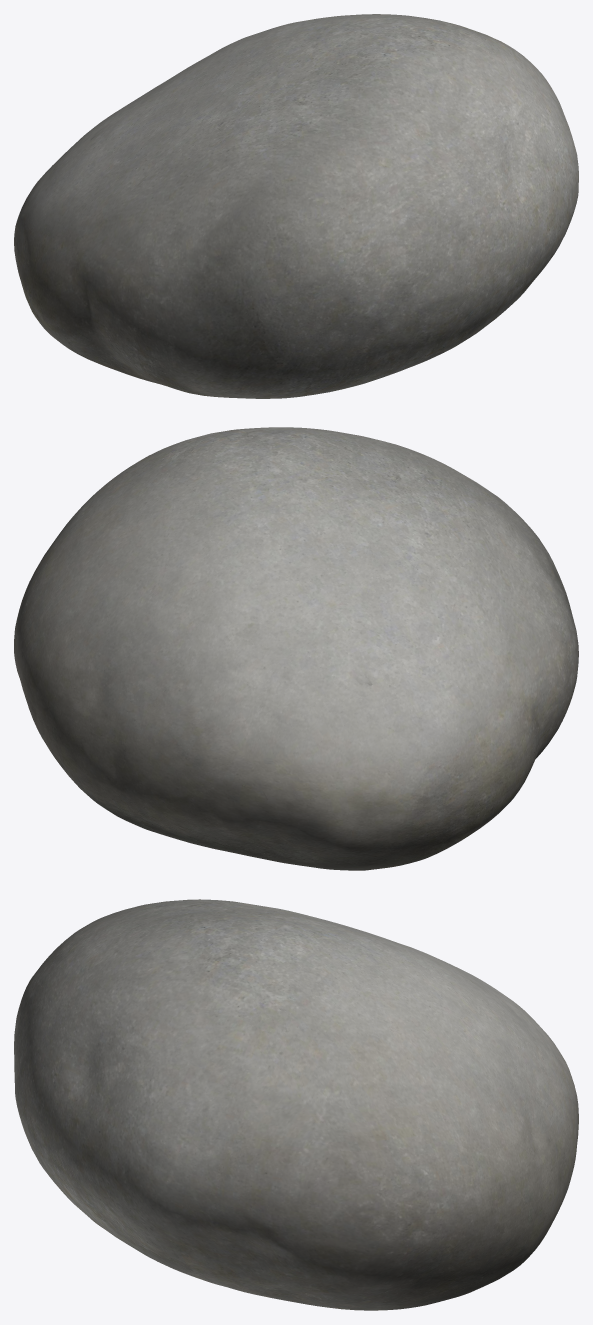
The picture shows the model from 3 angles, top to bottom: view 1: azimuth 30°, elevation 25°; view 2: azimuth 150°, elevation 25°; view 3: azimuth 270°, elevation 25°; orthographic projection. The views are drawn at different scales.
Visible parts, largest first — view 1: Mesh1; view 2: Mesh1; view 3: Mesh1.
Boxes of the visible parts, x1,y1,x2,y2 form: Mesh1: (14,14,578,398); Mesh1: (14,427,578,870); Mesh1: (14,899,578,1310).
Size of the model in its own units: 200 by 131 by 186.
1 material, 1 textured.
